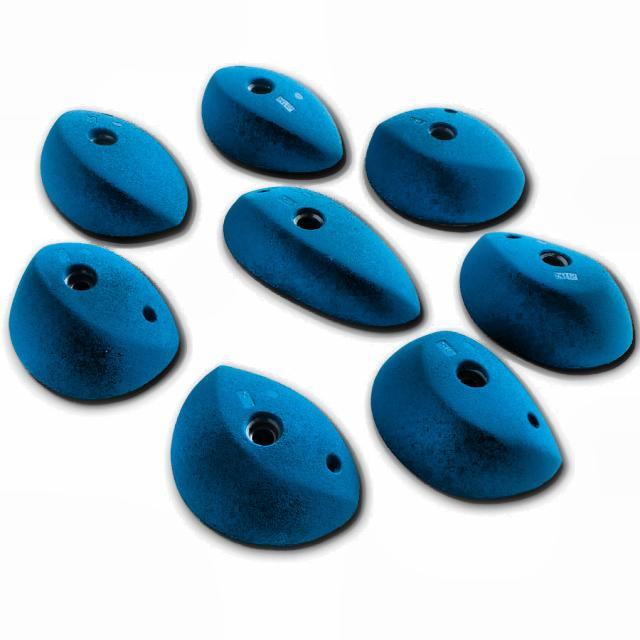Hold: (365, 326, 566, 506), (169, 367, 363, 548), (224, 185, 418, 335), (11, 242, 181, 402), (457, 232, 636, 369), (371, 105, 530, 225), (40, 111, 190, 238), (199, 62, 350, 172)
